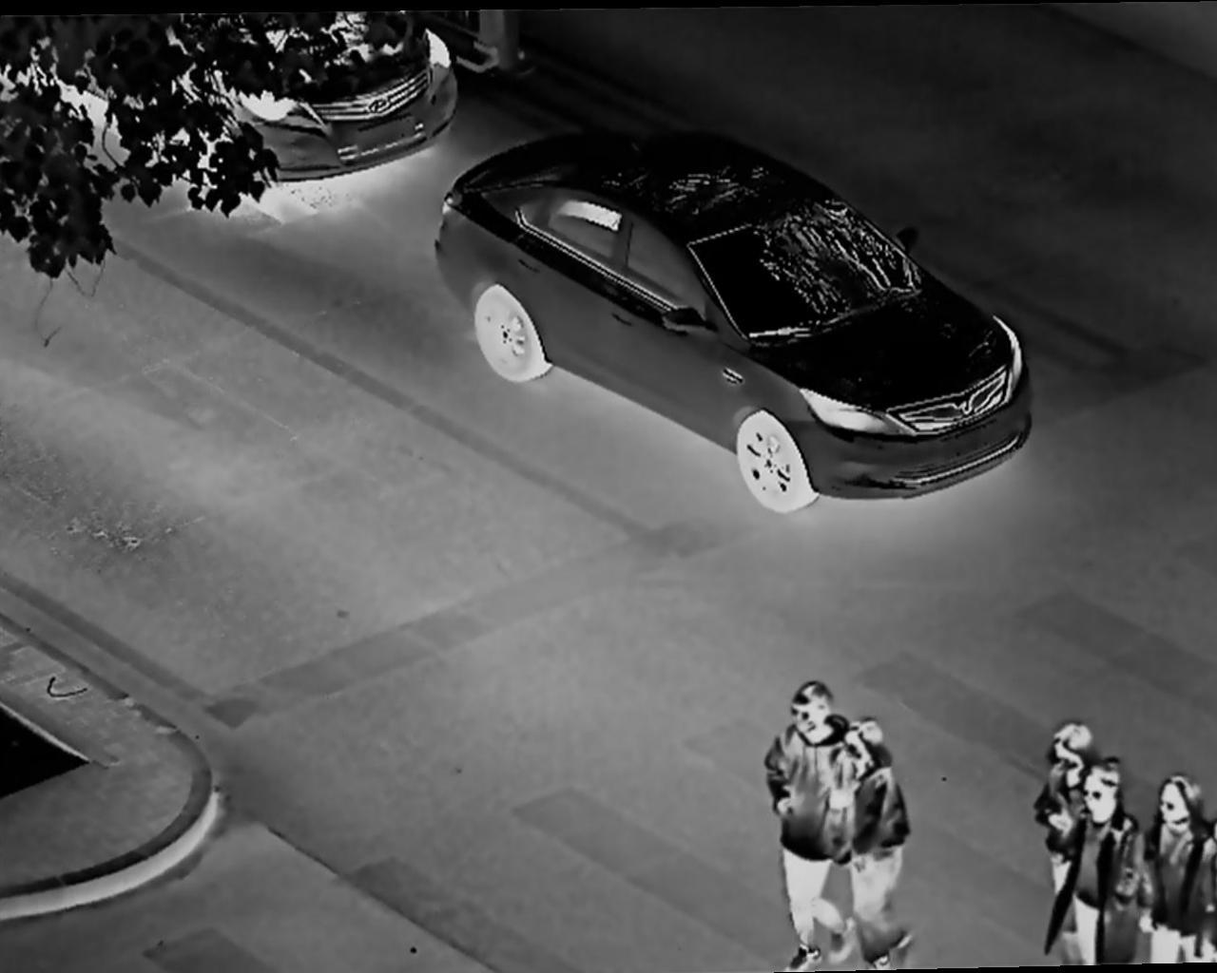person: (766, 673, 856, 963), (826, 725, 925, 973), (1070, 754, 1150, 973), (1135, 776, 1217, 952), (1039, 714, 1092, 919)
